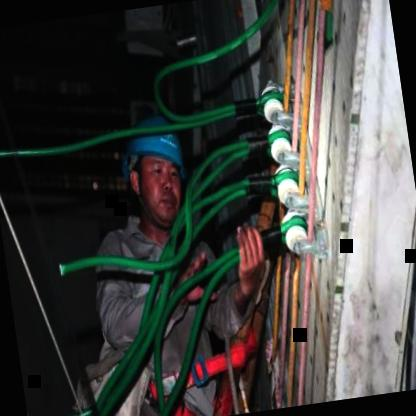helmet: (110, 106, 199, 233)
